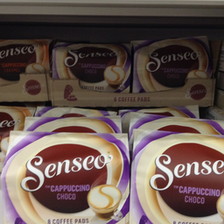coffee: (2, 130, 130, 224), (129, 127, 223, 224), (132, 35, 210, 93), (51, 40, 132, 93)
